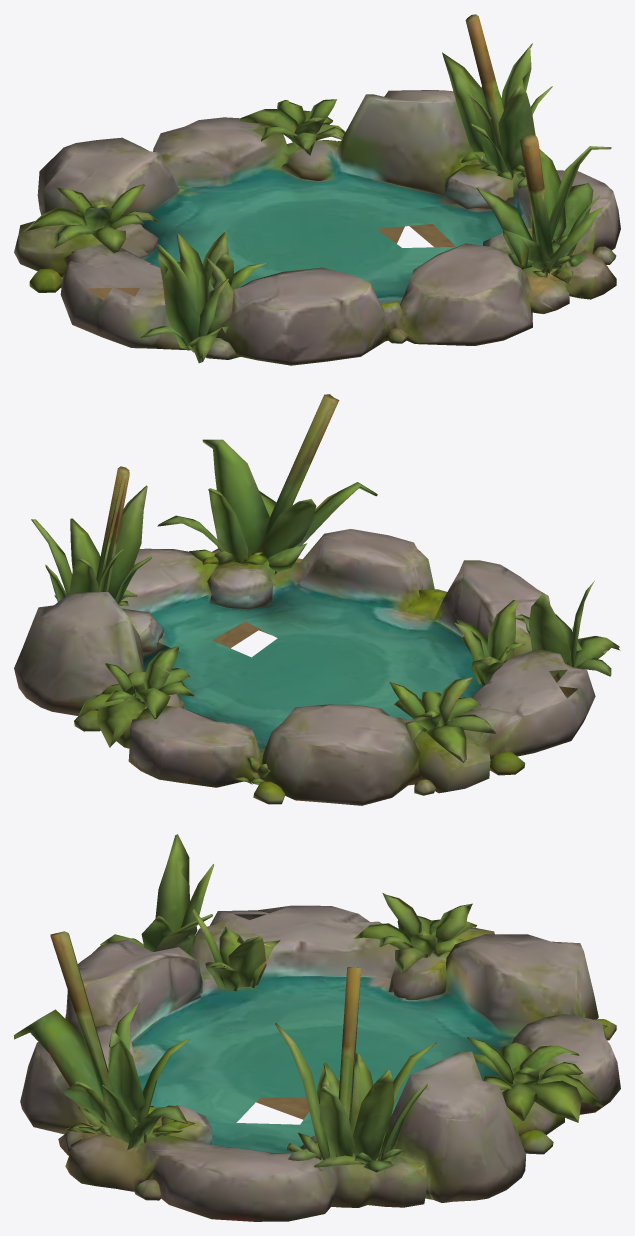
File: node_water.glb
The picture shows the model from 3 angles, top to bottom: view 1: azimuth 30°, elevation 25°; view 2: azimuth 150°, elevation 25°; view 3: azimuth 270°, elevation 25°; orthographic projection. The views are drawn at different scales.
Bounding box in the file's own units: 0.3657 × 0.1279 × 0.3345.
Materials: 1 (1 with a texture image).
